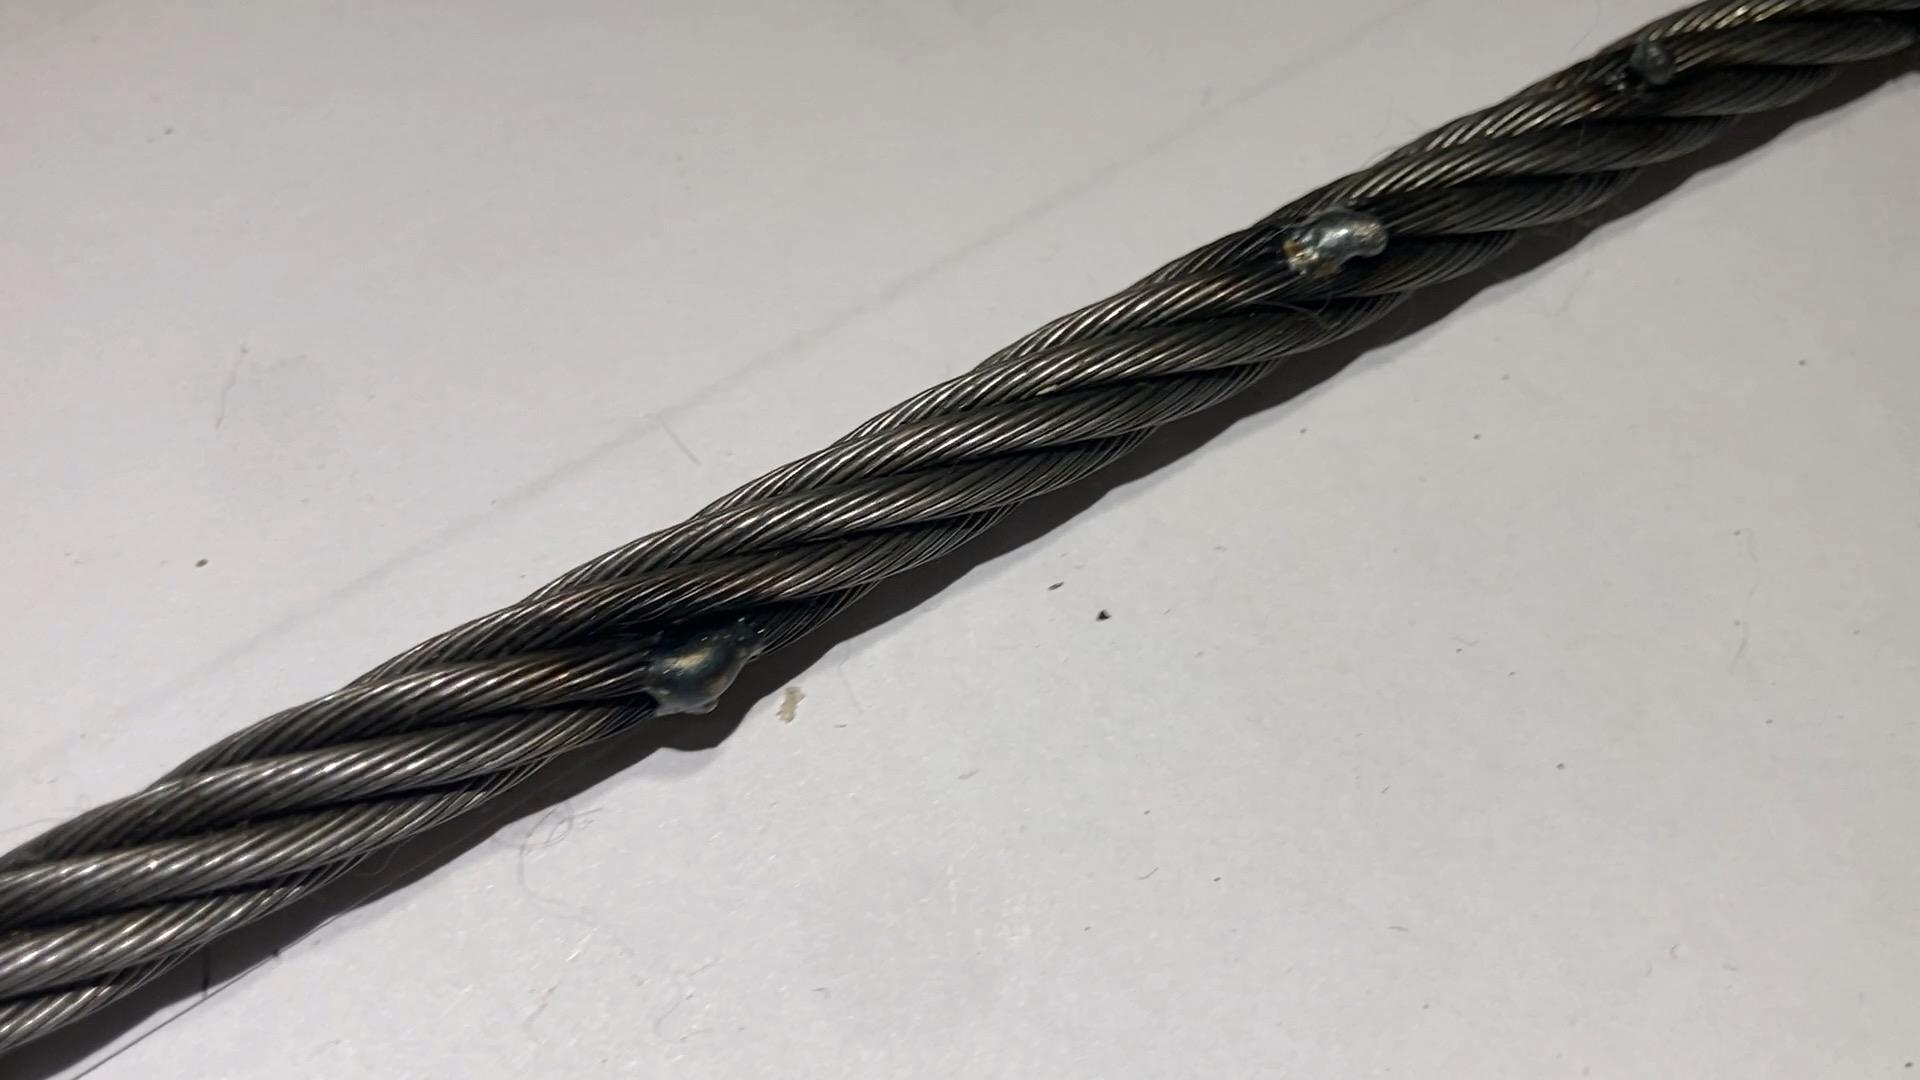thunderbolt: (621, 613, 767, 709), (1588, 20, 1684, 109), (1275, 210, 1387, 280)
